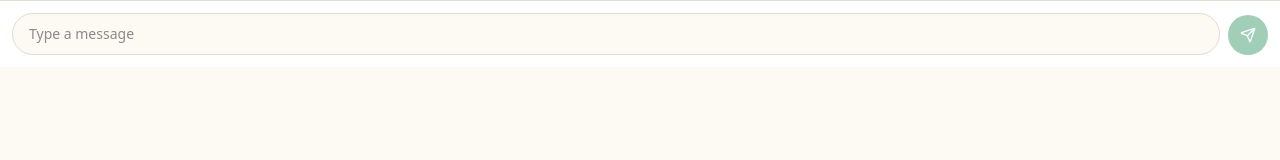
ComposeBar › test_compose_bar_send
This screenshot has width=1280, height=160.
Type "Hello there" into the field with placeholder "Type a message". click: (616, 34)
box: [12, 13, 1220, 55]
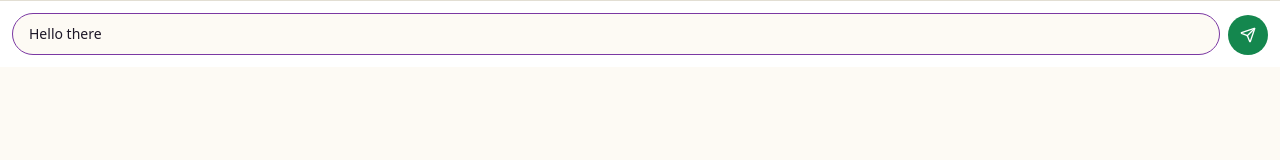
Click the button named "send". click: (1248, 35)
box: [1228, 15, 1268, 55]
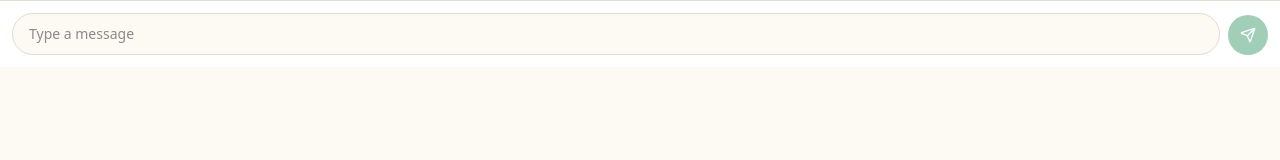
Expected: the field with placeholder "Type a message" is empty, [12, 13, 1220, 55]
